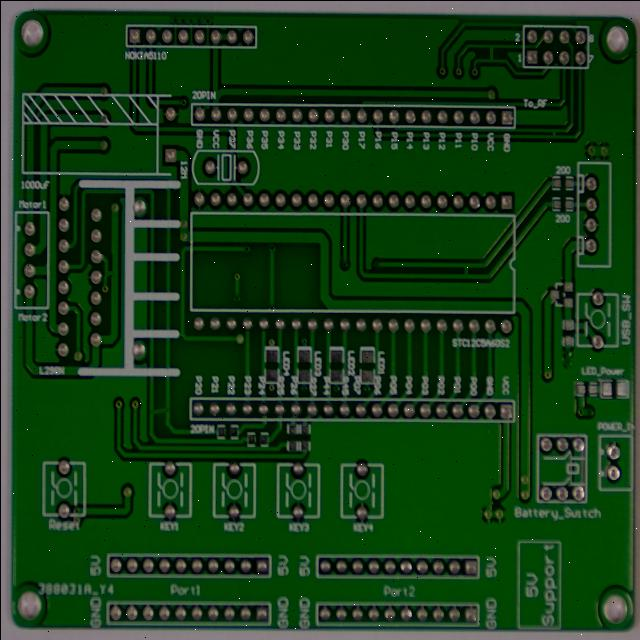short: (138, 391, 168, 419), (480, 28, 500, 54), (454, 251, 474, 274), (94, 253, 113, 276), (544, 113, 561, 130)
